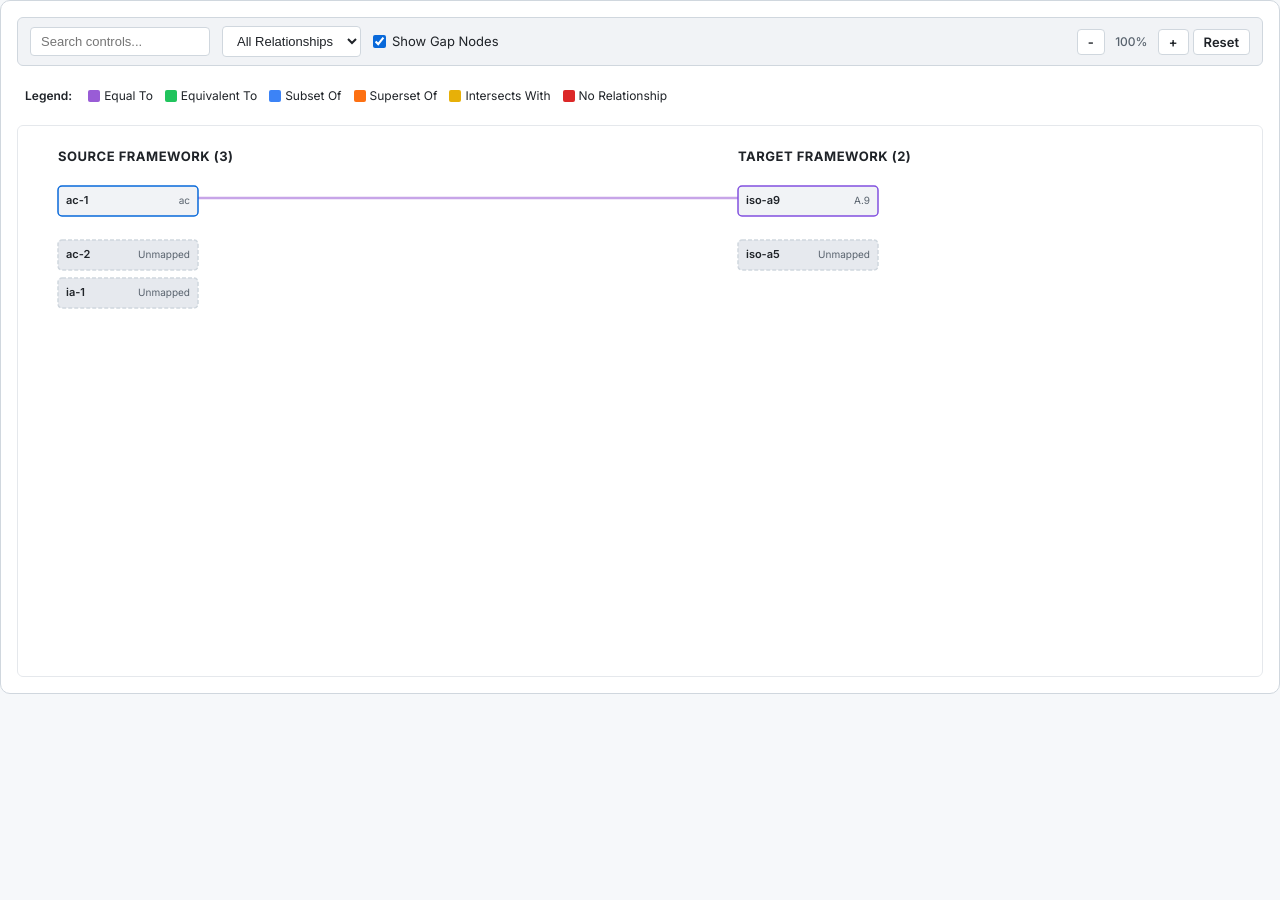
Tier 5 White-Box Adversarial Frontend Coverage Suite › 4. Sankey Diagram Edge Cases (SankeyDiagram) › enforces zoom scaling boundaries between 50% and 200%
# Click Zoom In multiple times
Click the button titled "Zoom In": (1173, 42) left=1158, top=28, right=1189, bottom=54
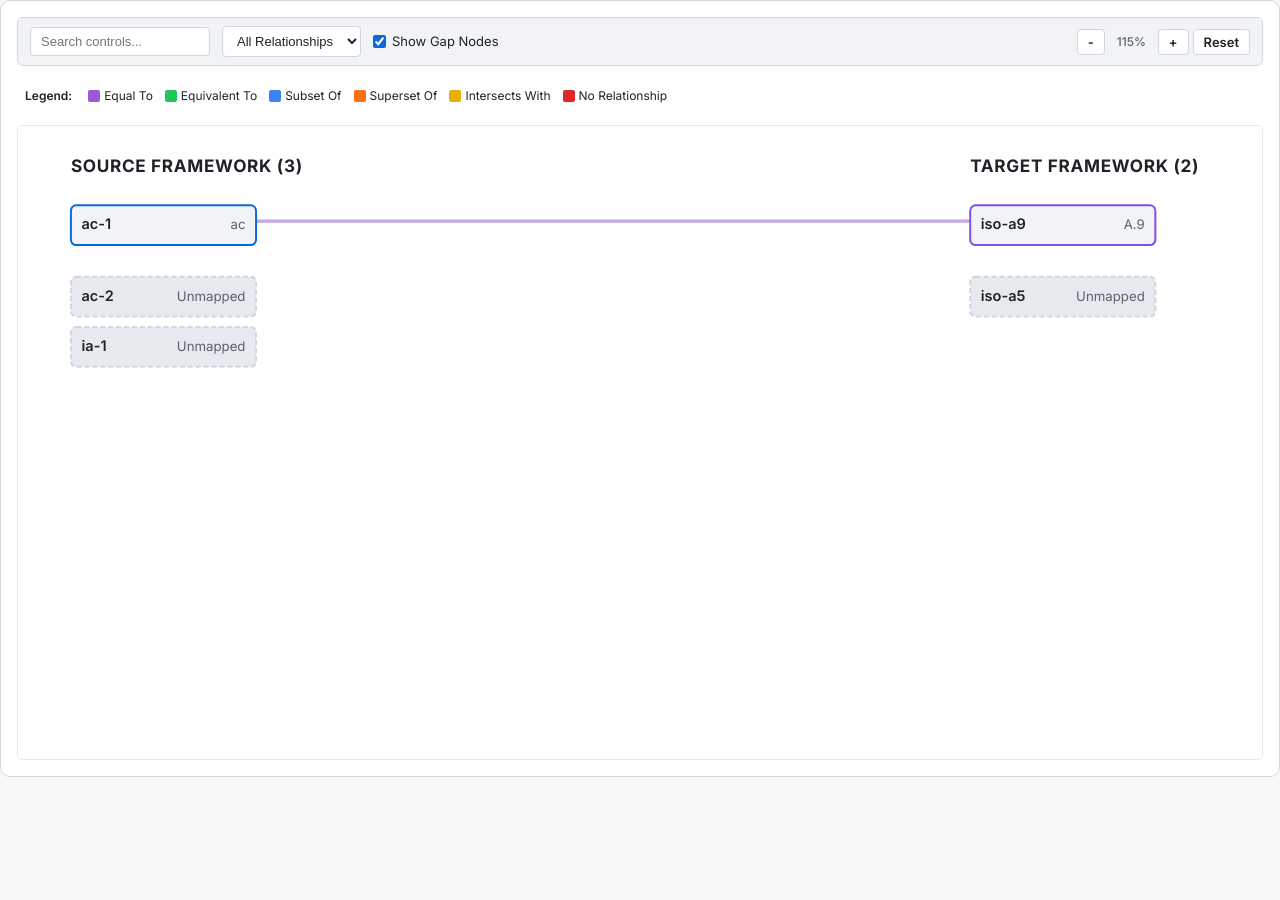
Click the button titled "Zoom In": (1173, 42) left=1158, top=28, right=1189, bottom=54
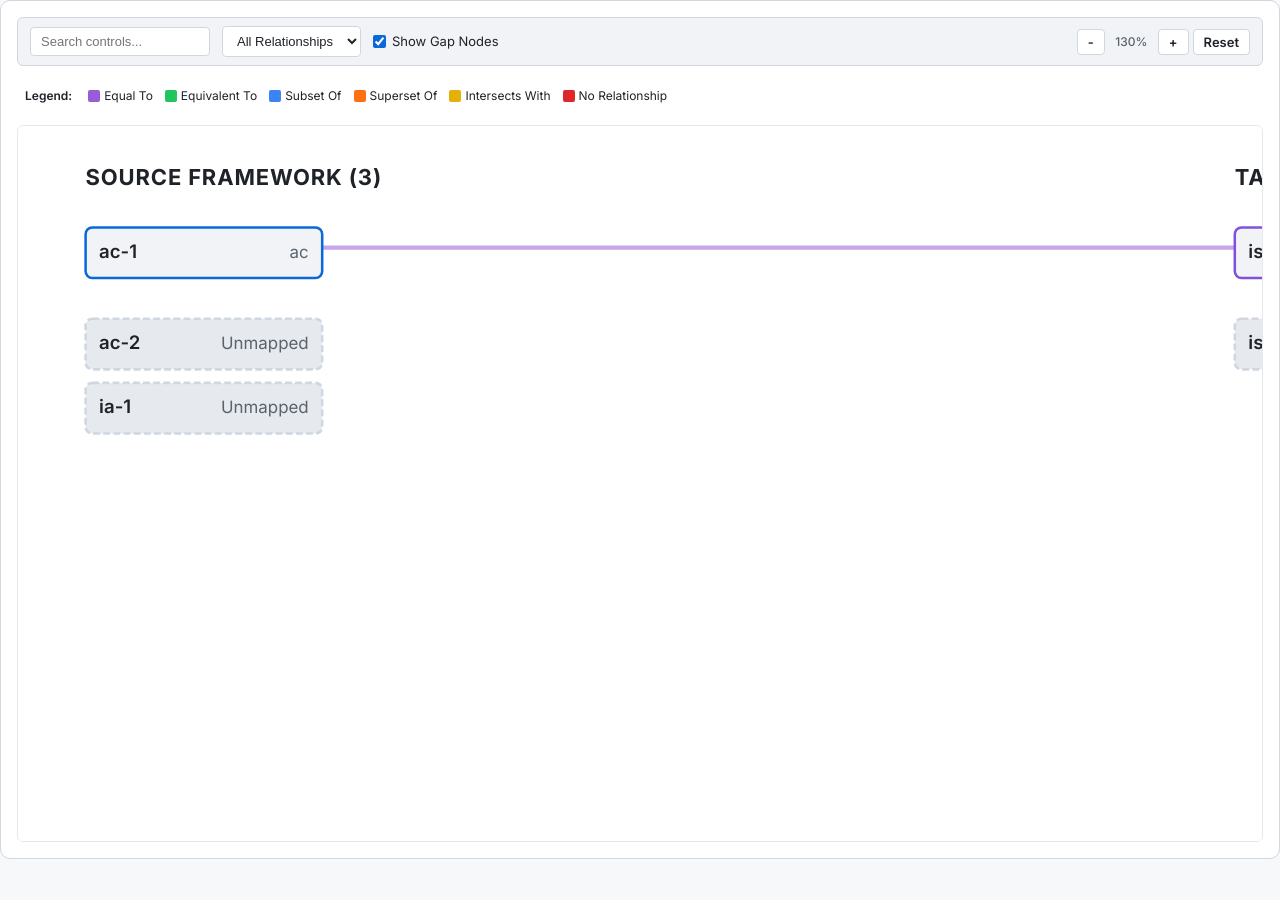
Check: the text "130%" is shown, box left=1115, top=34, right=1147, bottom=49
Click the button titled "Reset Zoom": (1221, 42) left=1193, top=28, right=1250, bottom=54
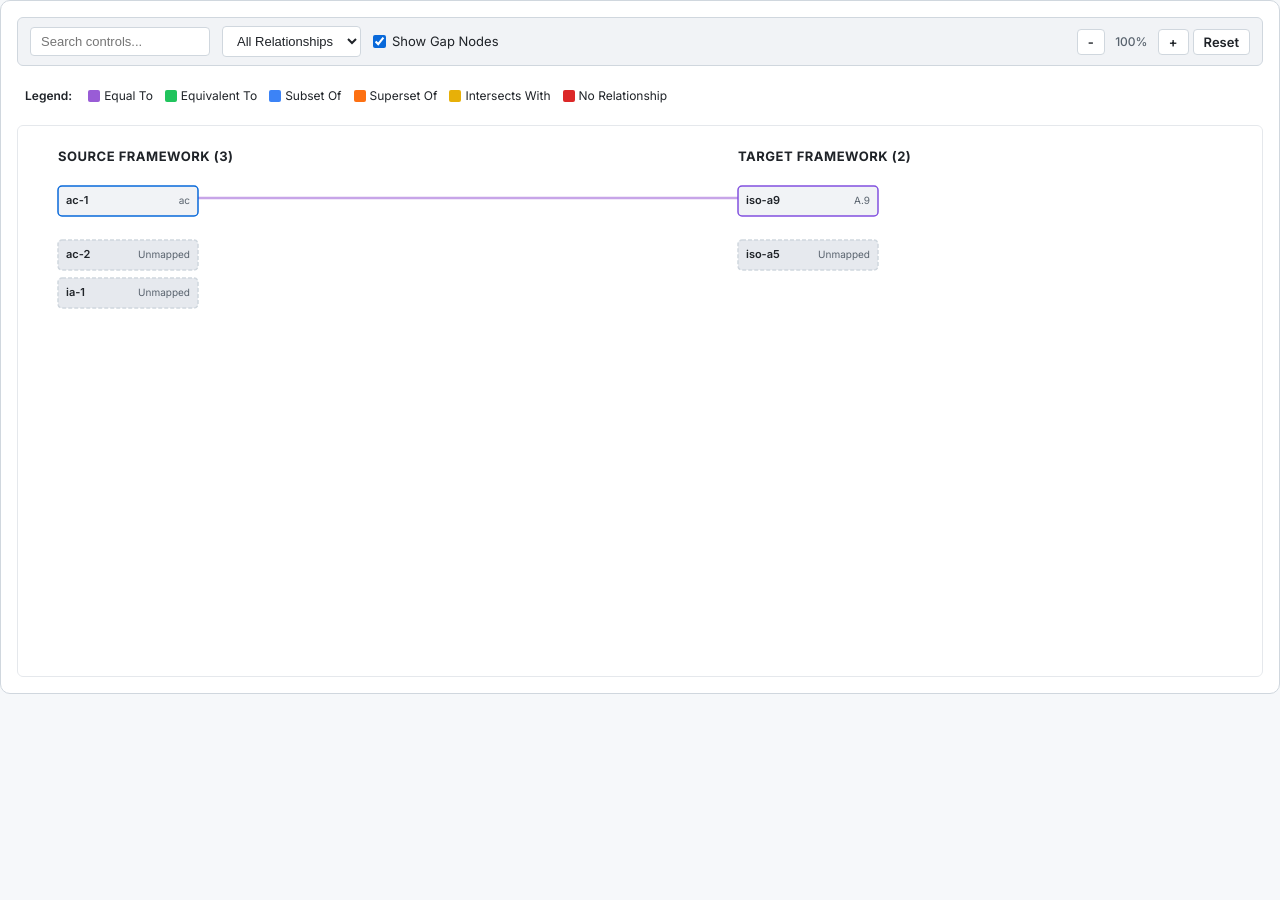
Check: the text "100%" is shown, box left=1115, top=34, right=1148, bottom=49
